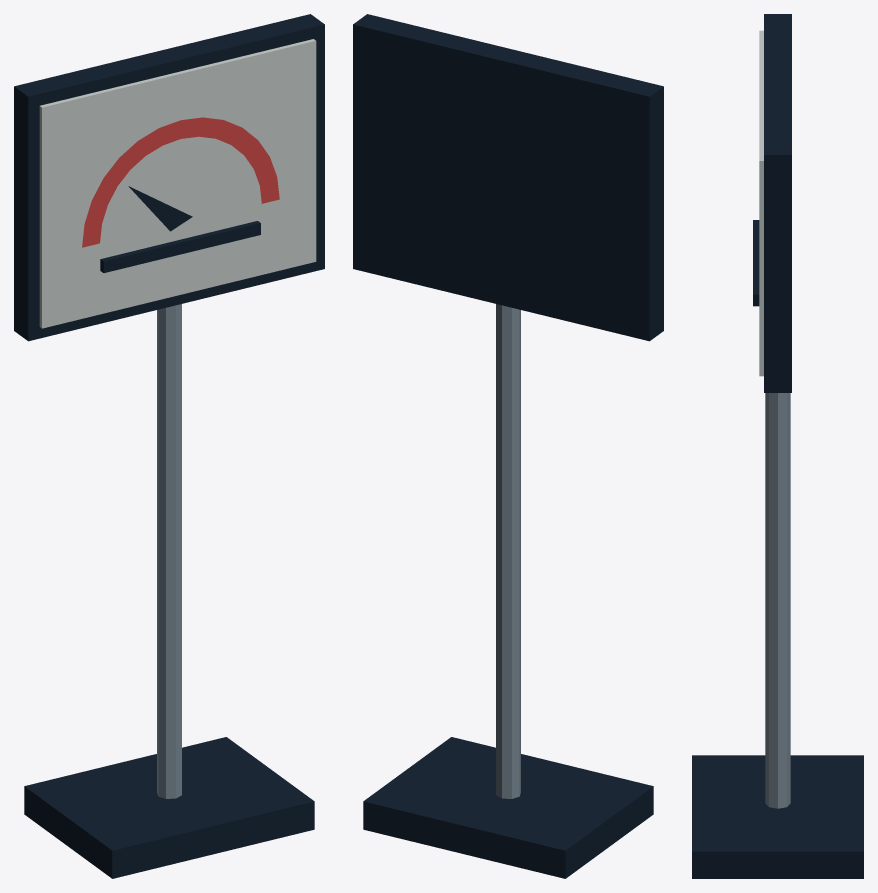
The model's file is speed_limit_symbol.glb.
3 renders of one model, left to right at view 1: azimuth 30°, elevation 25°; view 2: azimuth 150°, elevation 25°; view 3: azimuth 270°, elevation 25°, orthographic. The views are drawn at different scales.
Parts seen in each view (by area): view 1: Sign; view 2: Sign; view 3: Sign.
Boxes of the visible parts, x1,y1,x2,y2 form: Sign: (14,14,324,878); Sign: (353,14,663,878); Sign: (692,14,863,878).
Bounding box in the file's own units: 0.66 × 1.63 × 0.34.
